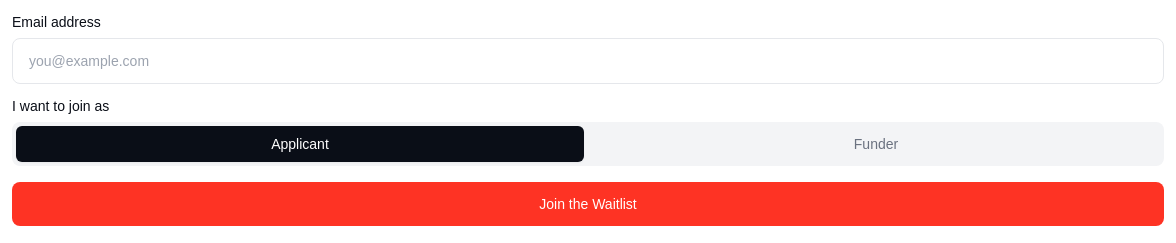
Scenario: WaitlistForm › shows funder-specific success message after successful submission as funder
The image size is (1176, 243).
Click the button "Funder".
click(876, 144)  # box [592,126,1160,162]
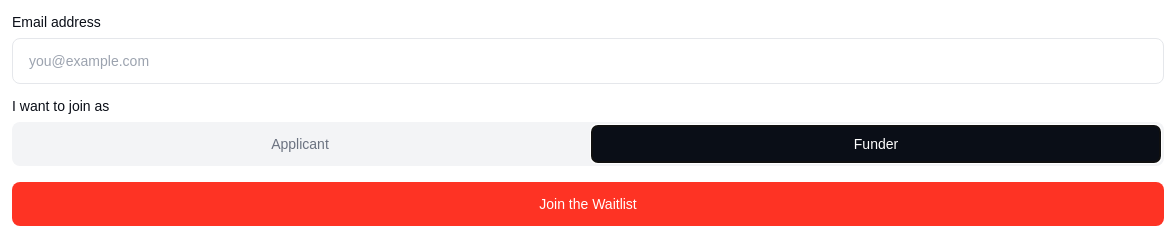
Type "donor@example.com" into the field with placeholder "you@example.com".
click(588, 61); type("donor@example.com")  # box [12,38,1164,84]
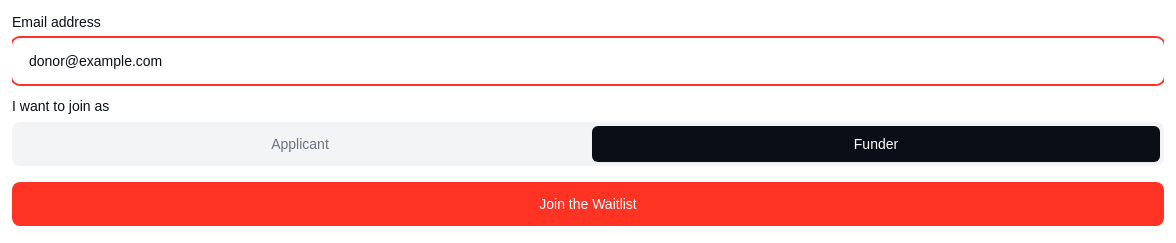
Click the button "Join the Waitlist".
click(588, 204)  # box [12,182,1164,226]
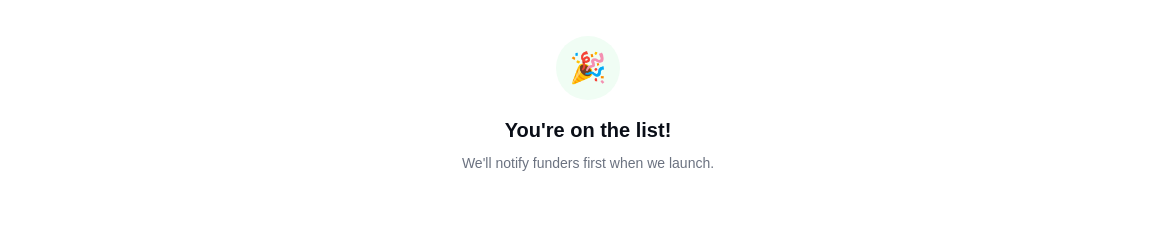
Check: the heading "You're on the list!" is shown, box [505,119,671,141]
Check: the text "We'll notify funders first when we launch." is shown, box [462,155,714,171]
